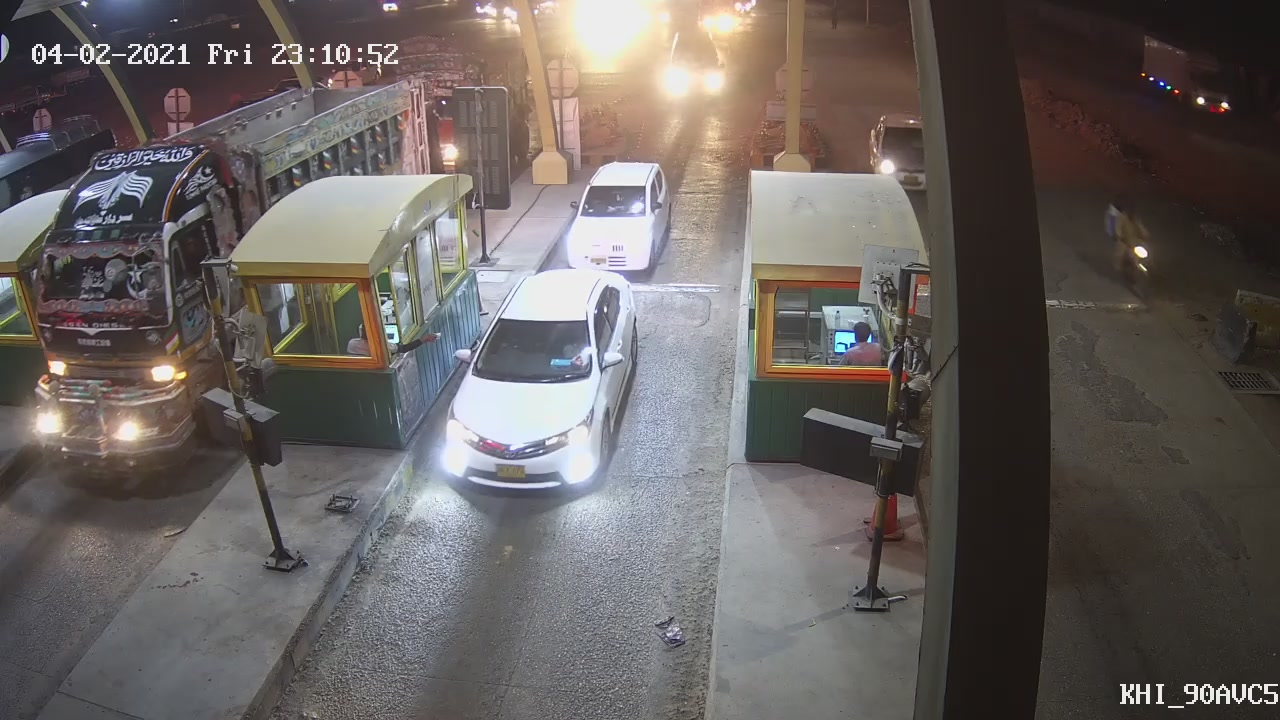F1: (435, 271, 640, 499), (561, 158, 673, 272)
